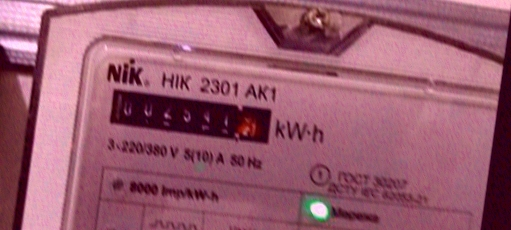0: (119, 93, 134, 116), (140, 94, 154, 117)
1: (218, 106, 231, 127)
2: (159, 98, 174, 119)
4: (199, 102, 214, 125)
5: (178, 99, 193, 123)
6: (239, 121, 252, 137)
screen: (96, 76, 284, 154)
